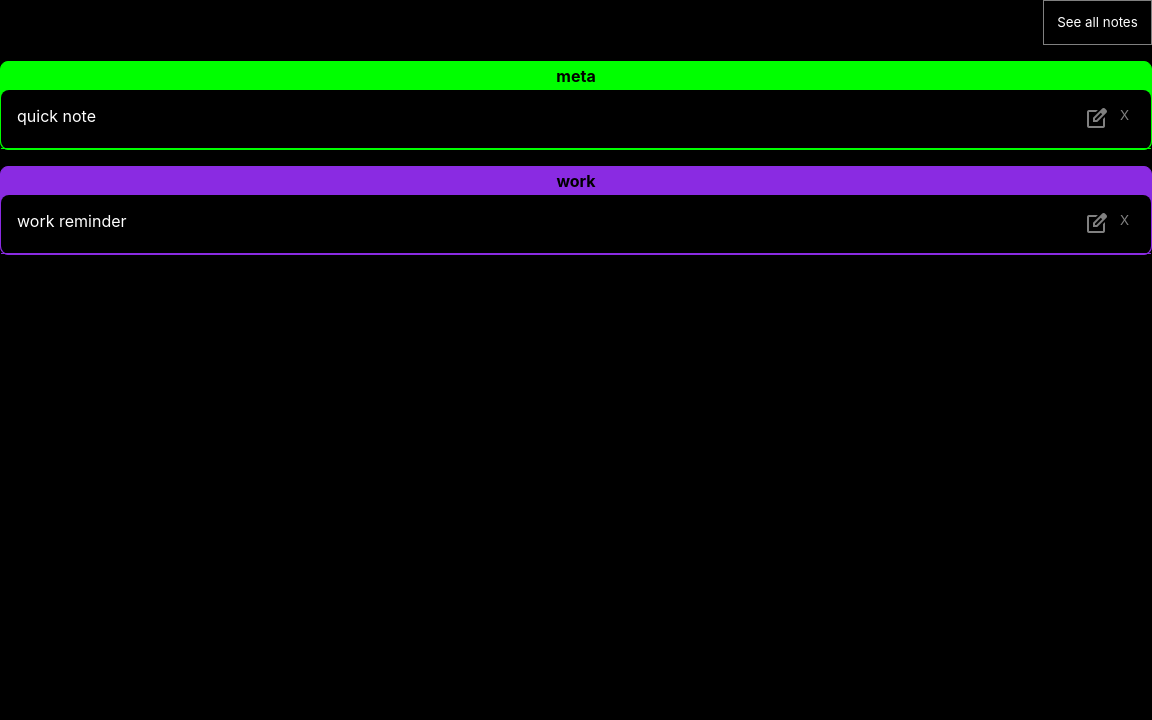
Scenario: Notes › note is editable
This screenshot has width=1152, height=720.
Click the button with test id "note-1-edit".
click(1096, 119)  # box [1078,106,1114,132]
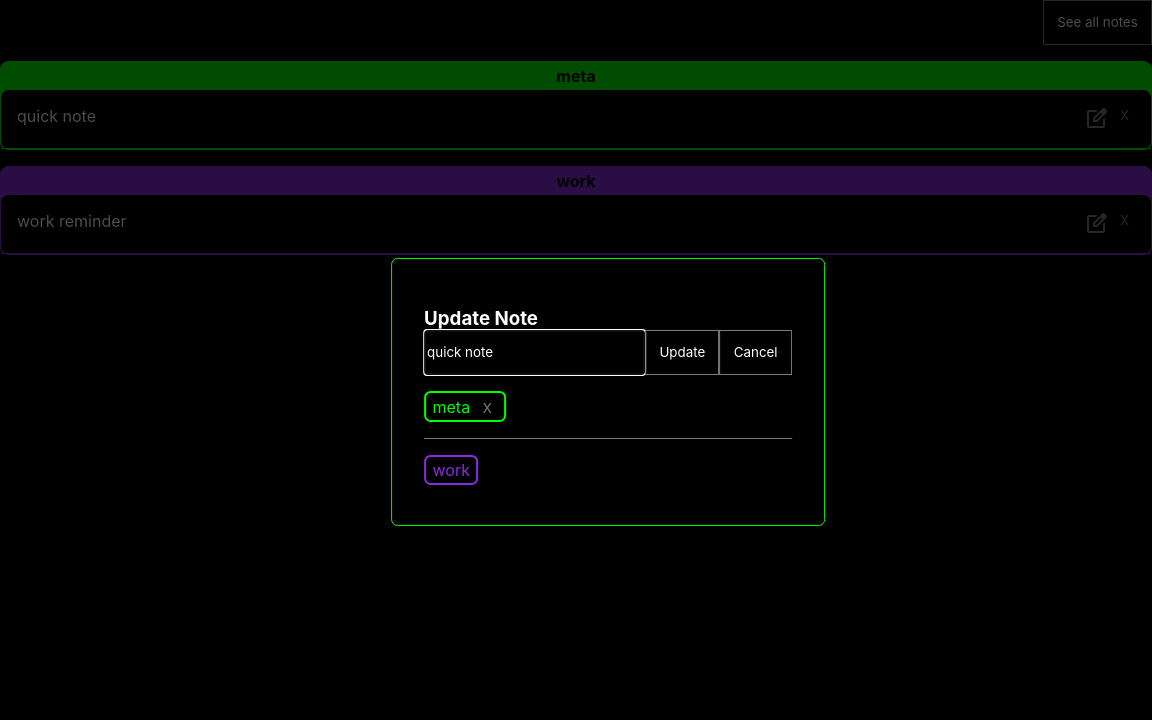
Replace the text in the field labelled "Update Note" with "I have been sufficiently updated" at (535, 353), box [424,330,645,375]
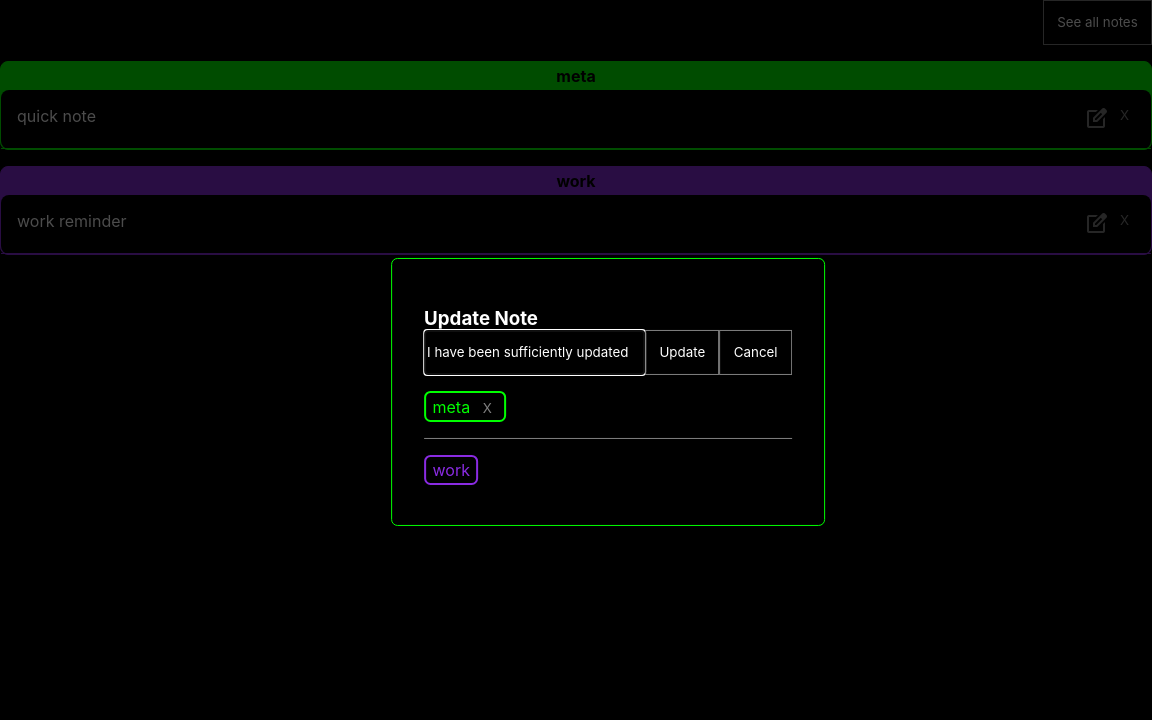
Submit the form from the button "Update", box [645,330,720,375]
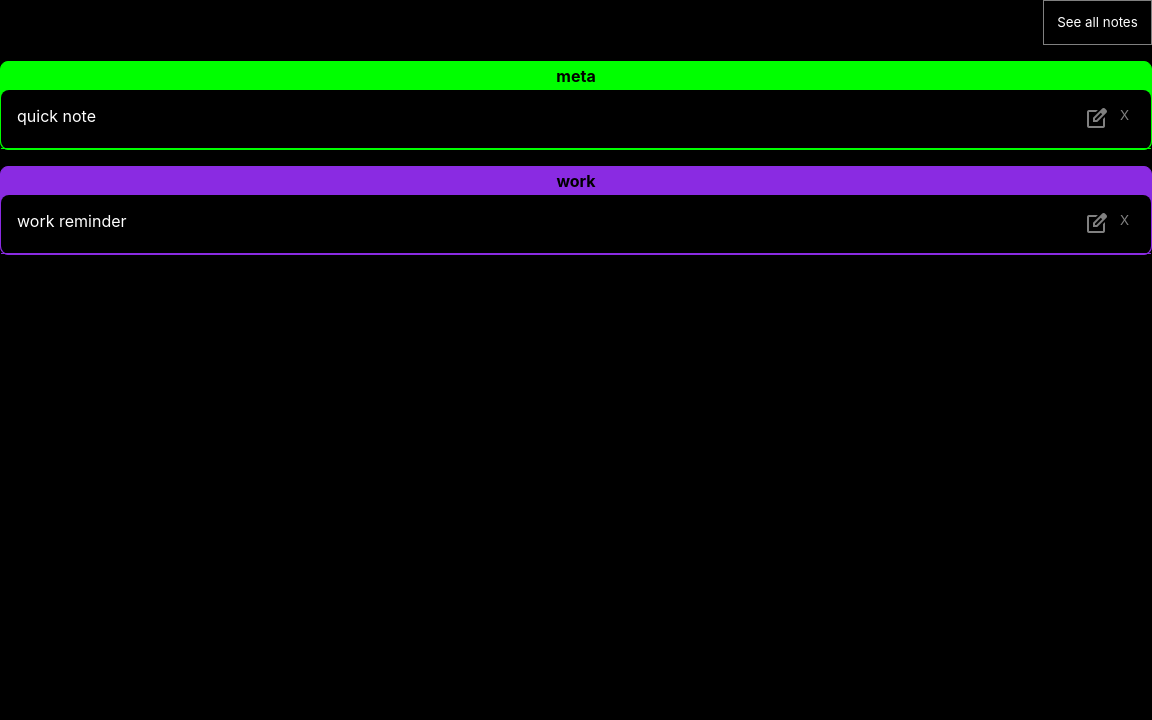
expect the heading "Update" is gone: met
